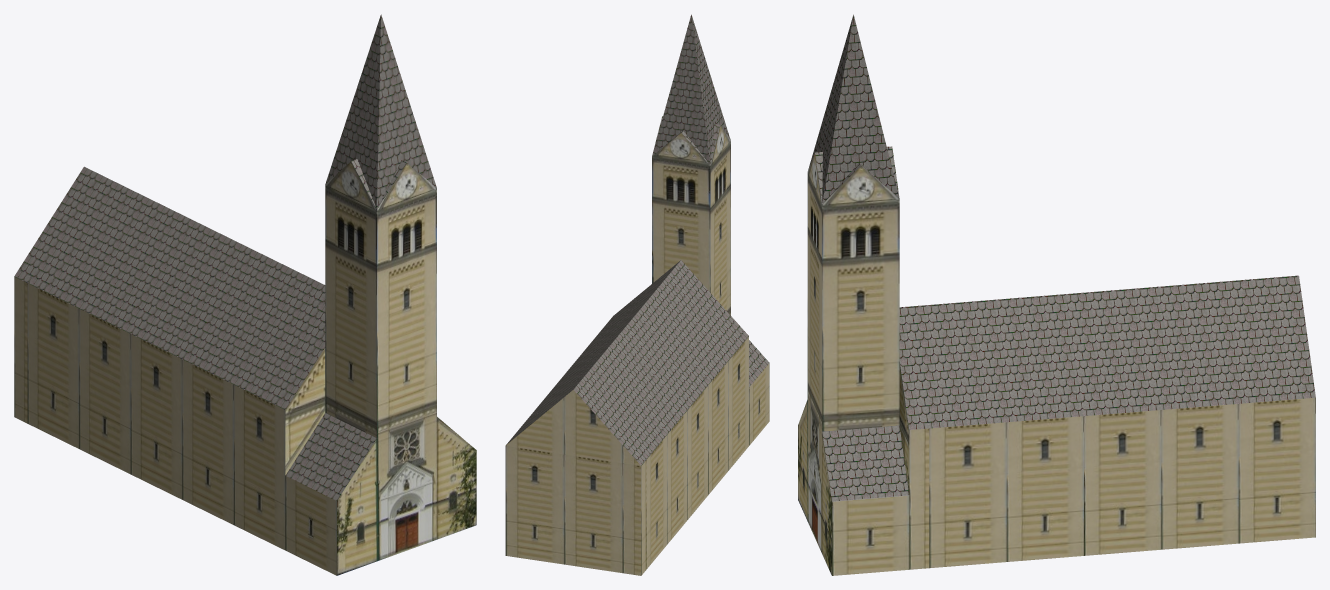
The model's file is crkva.fbx.
The picture shows the model from 3 angles, left to right: view 1: azimuth 30°, elevation 25°; view 2: azimuth 150°, elevation 25°; view 3: azimuth 270°, elevation 25°; orthographic projection. The views are drawn at different scales.
Visible parts, largest first — view 1: Katolicka_crkva__Sarajevo1; view 2: Katolicka_crkva__Sarajevo1; view 3: Katolicka_crkva__Sarajevo1.
Part boxes in pixels (box(x1,y1,x2,y2)): Katolicka_crkva__Sarajevo1: box(14, 14, 476, 575); Katolicka_crkva__Sarajevo1: box(505, 14, 769, 575); Katolicka_crkva__Sarajevo1: box(798, 14, 1315, 575).
Bounding box in the file's own units: 17.23 × 36.52 × 32.92.
